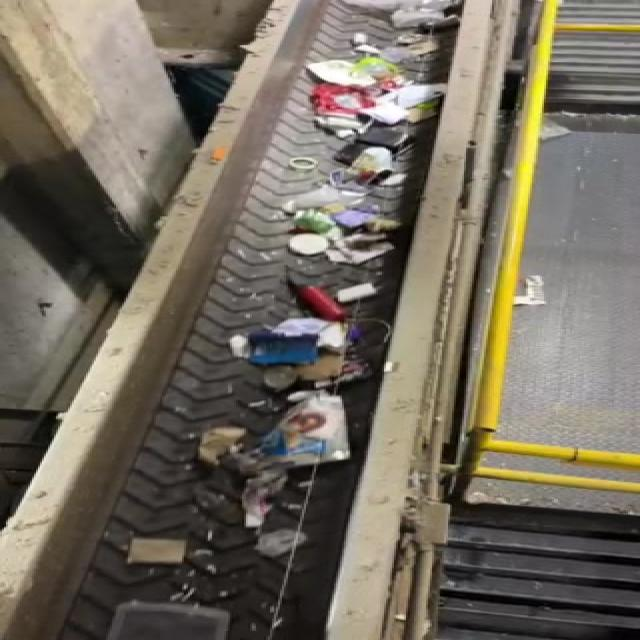paper: (255, 393, 375, 482)
pp: (104, 598, 240, 640)
